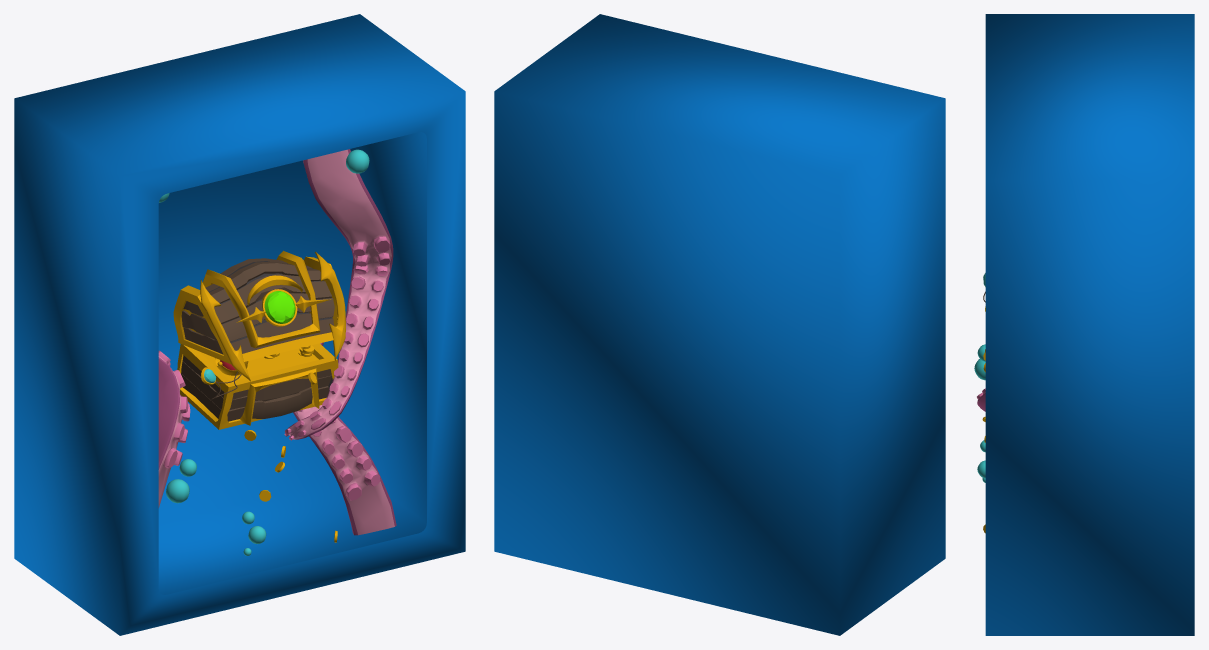
The model's file is 19_OceanTreasure.glb.
3 renders of one model, left to right at view 1: azimuth 30°, elevation 25°; view 2: azimuth 150°, elevation 25°; view 3: azimuth 270°, elevation 25°, orthographic.
Parts seen in each view (by area): view 1: 19_OceanTreasure_bg, 19_OceanTreasure; view 2: 19_OceanTreasure_bg; view 3: 19_OceanTreasure_bg, 19_OceanTreasure.
Boxes of the visible parts, x1=… form: 19_OceanTreasure_bg: x1=14, y1=14, x2=465, y2=635; 19_OceanTreasure: x1=158, y1=149, x2=396, y2=555; 19_OceanTreasure_bg: x1=494, y1=14, x2=945, y2=635; 19_OceanTreasure_bg: x1=985, y1=14, x2=1194, y2=635; 19_OceanTreasure: x1=974, y1=273, x2=985, y2=533.
Size of the model in its own units: 2.76 by 3.51 by 1.54.
Materials: 1 (1 with a texture image).
